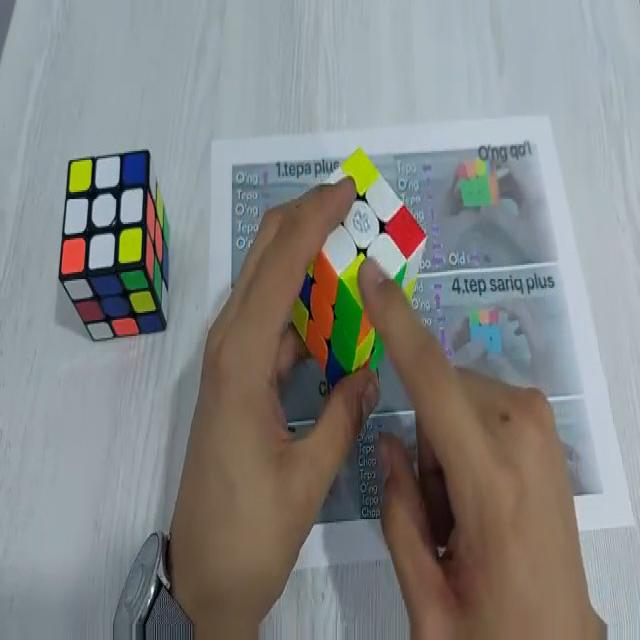Rub: (286, 147, 428, 394), (56, 150, 168, 336)
